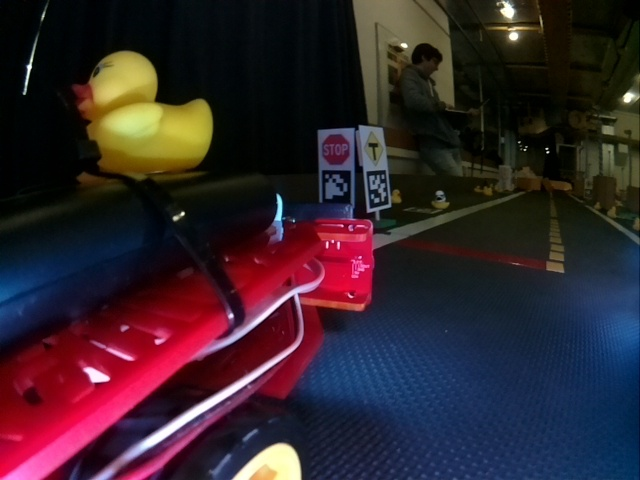Duckie: (74, 53, 206, 171), (432, 191, 449, 209), (393, 189, 401, 204)
Intersection sign: (365, 130, 384, 164)
QR code: (320, 172, 352, 205), (366, 173, 390, 208)
Stop sign: (320, 133, 351, 166)
